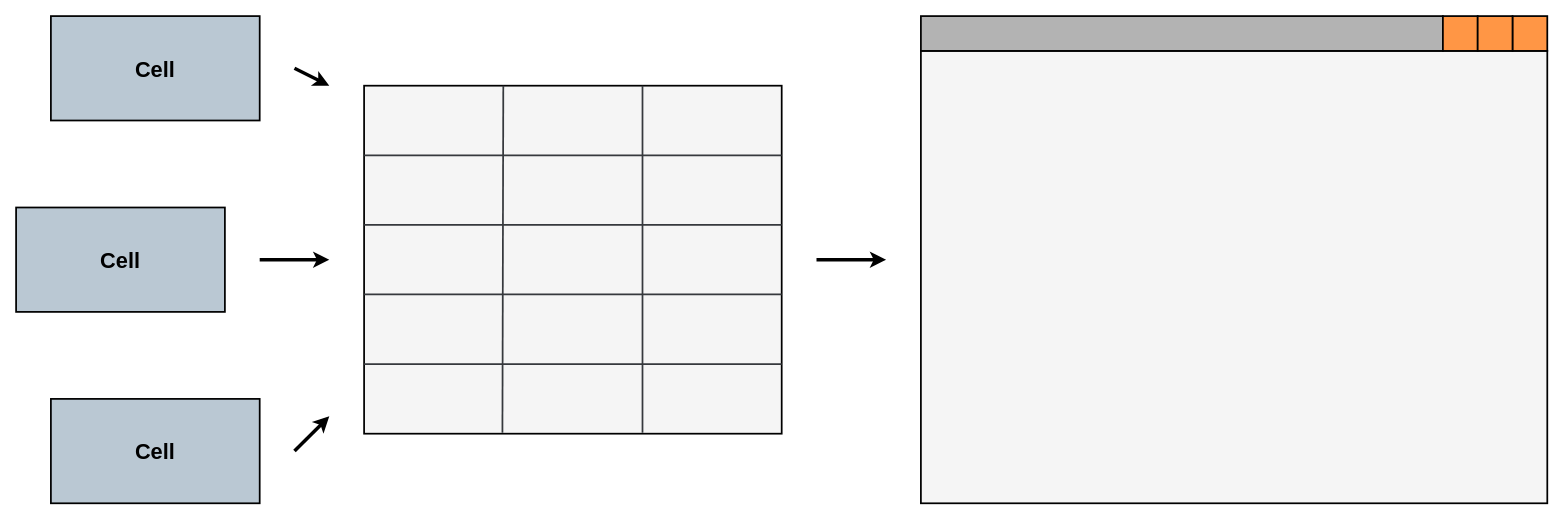
This 1563x519 diagram has some shape labels left out. The box of each missing label's shape, as (x1, y1, x2, y2) in pixels:
Grid: (363, 84, 782, 434)
Window: (920, 50, 1548, 504)
